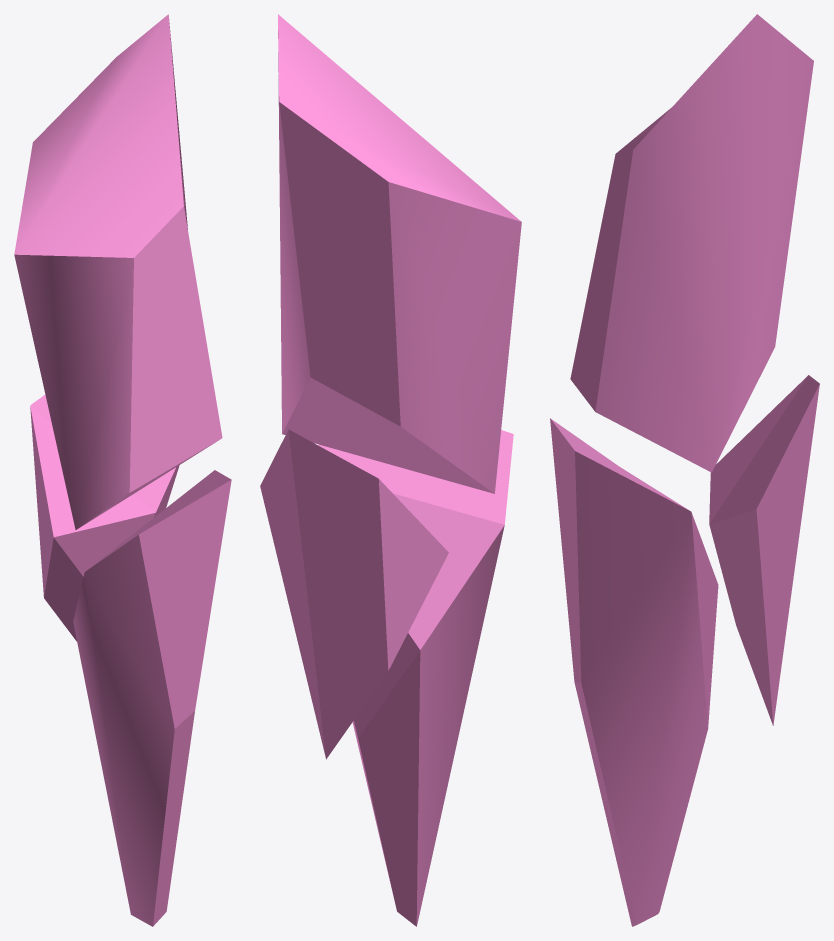
File: FloatingRock_1.fbx
3 renders of one model, left to right at view 1: azimuth 30°, elevation 25°; view 2: azimuth 150°, elevation 25°; view 3: azimuth 270°, elevation 25°, orthographic. The views are drawn at different scales.
Visible parts, largest first — view 1: FloatingRock_1a, FloatingRock_1c, FloatingRock_1b; view 2: FloatingRock_1a, FloatingRock_1c, FloatingRock_1b; view 3: FloatingRock_1a, FloatingRock_1c, FloatingRock_1b.
Part boxes in pixels (box(x1,y1,x2,y2)): FloatingRock_1a: box(14, 14, 222, 529); FloatingRock_1c: box(73, 470, 231, 926); FloatingRock_1b: box(30, 395, 179, 641); FloatingRock_1a: box(278, 14, 521, 493); FloatingRock_1c: box(318, 430, 513, 926); FloatingRock_1b: box(260, 429, 448, 759); FloatingRock_1a: box(570, 14, 813, 472); FloatingRock_1c: box(550, 418, 718, 926); FloatingRock_1b: box(709, 375, 819, 725).
Bounding box in the file's own units: 312 × 319 × 1240.
